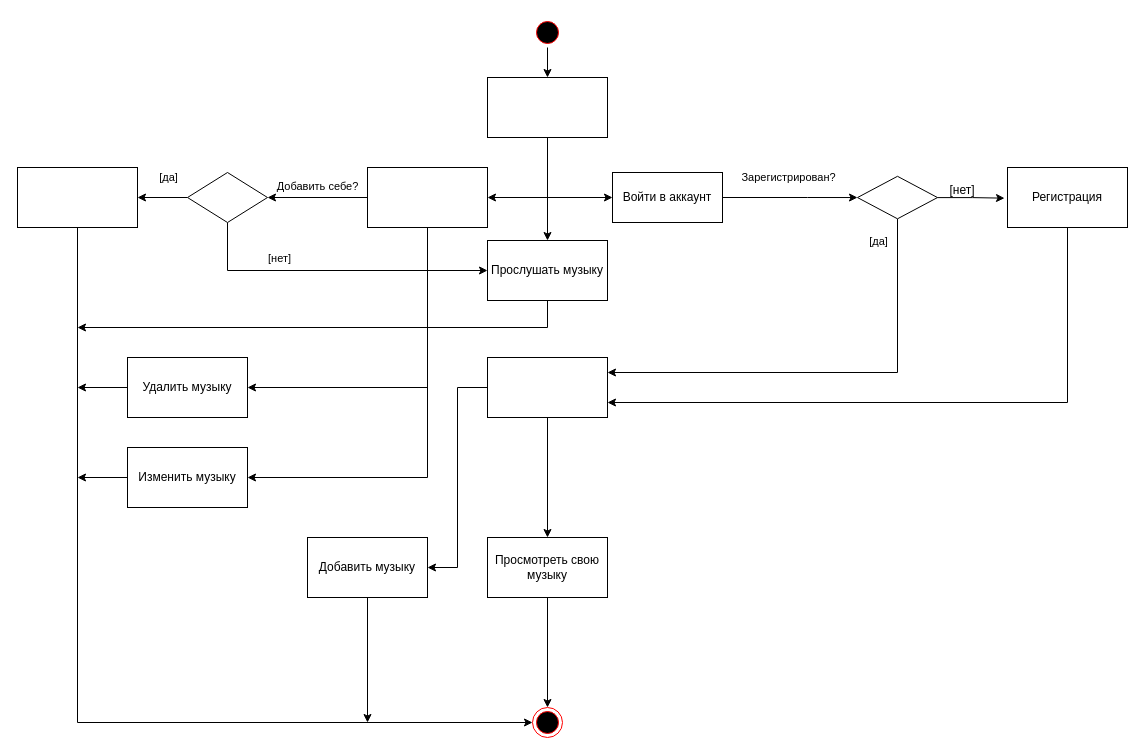
This 1145x755 diagram has some shape labels left out. Each missing label, with the box of its shape:
Вход в аккаунт: (486, 356, 608, 418)
Добавить себе музыку: (16, 166, 138, 228)
Запуск приложения: (486, 76, 608, 138)
Поиск музыки: (366, 166, 488, 228)
